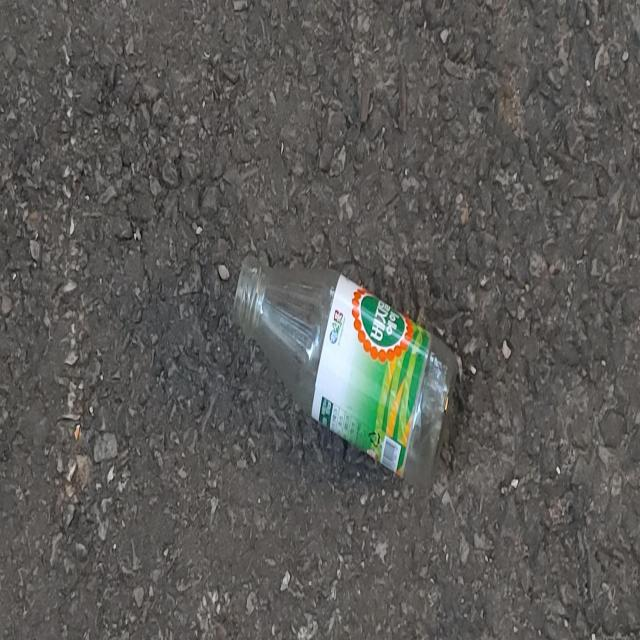glass: (233, 256, 458, 486)
